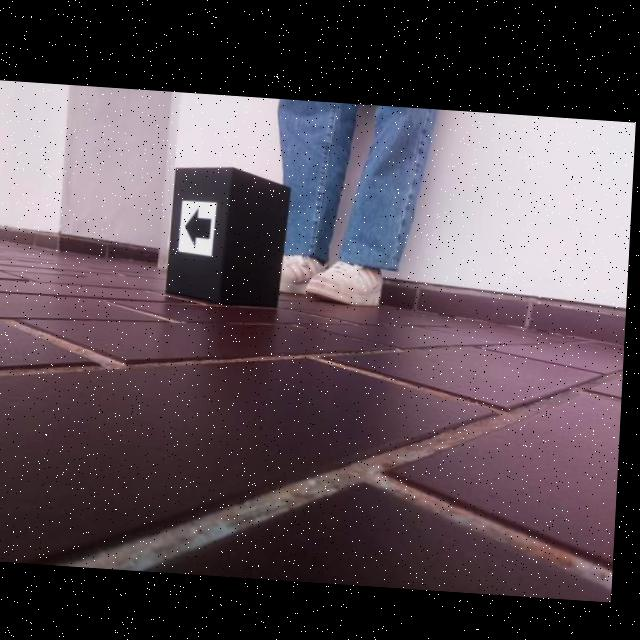LEFT: (186, 204, 214, 245)
